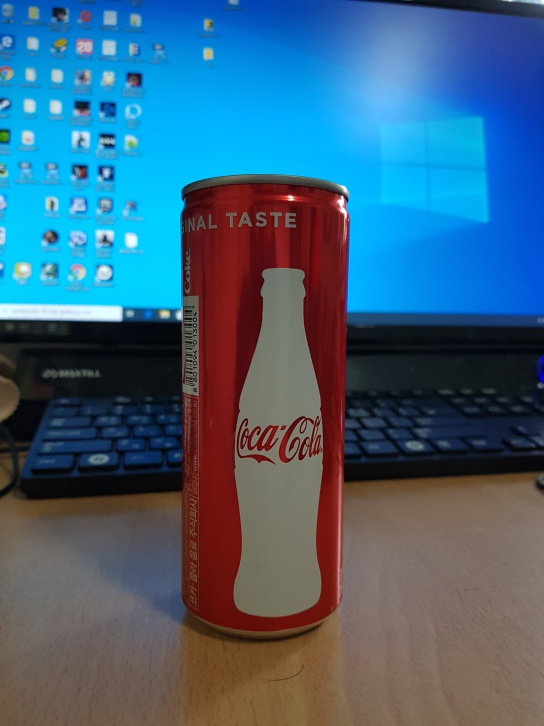Can: (176, 171, 350, 642)
